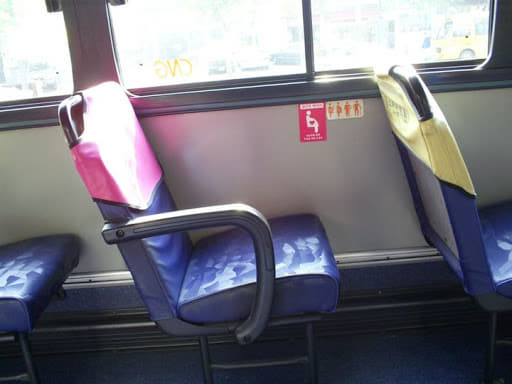seat: (63, 79, 341, 327)
